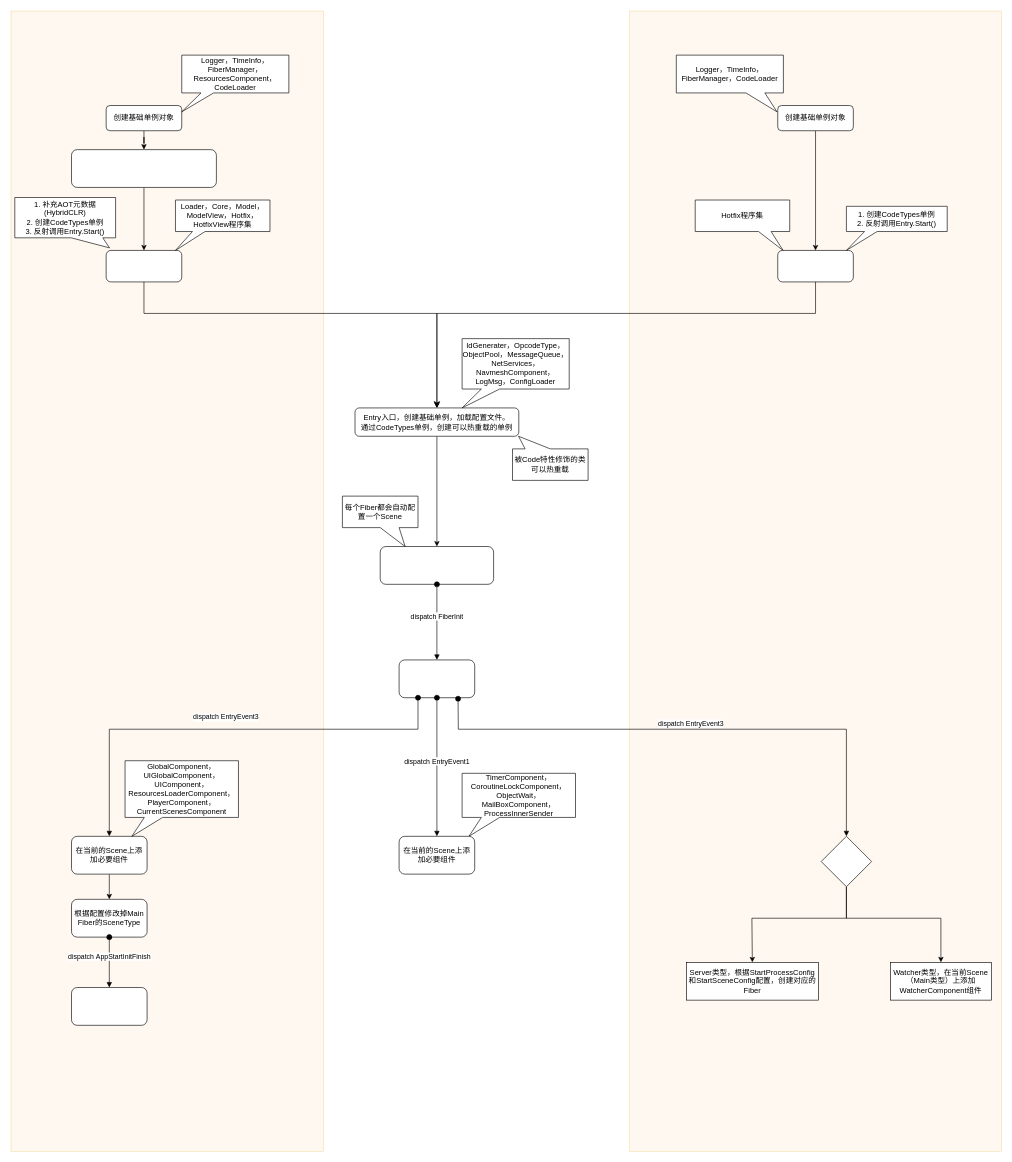
Image size: 1012x1162. Some labels were removed from this diagram. Here are the shapes that lost their labels. From the top down, the box of each, then its label:
(71, 149, 216, 187): 通过ResourcesComponent初始化YooAsset插件
(106, 250, 182, 282): 通过CodeLoader初始化AOT和热更代码
(777, 250, 853, 282): 通过CodeLoader加载逻辑相关的程序集
(380, 546, 494, 584): 通过FiberManager，创建一个主线程Fiber和一个Main类型Scene
(398, 659, 475, 698): 派发EntryEvent1，EntryEvent2，EntryEvent3三个事件
(821, 836, 872, 887): 启动参数的AppType
(71, 987, 147, 1025): 显示登陆界面
